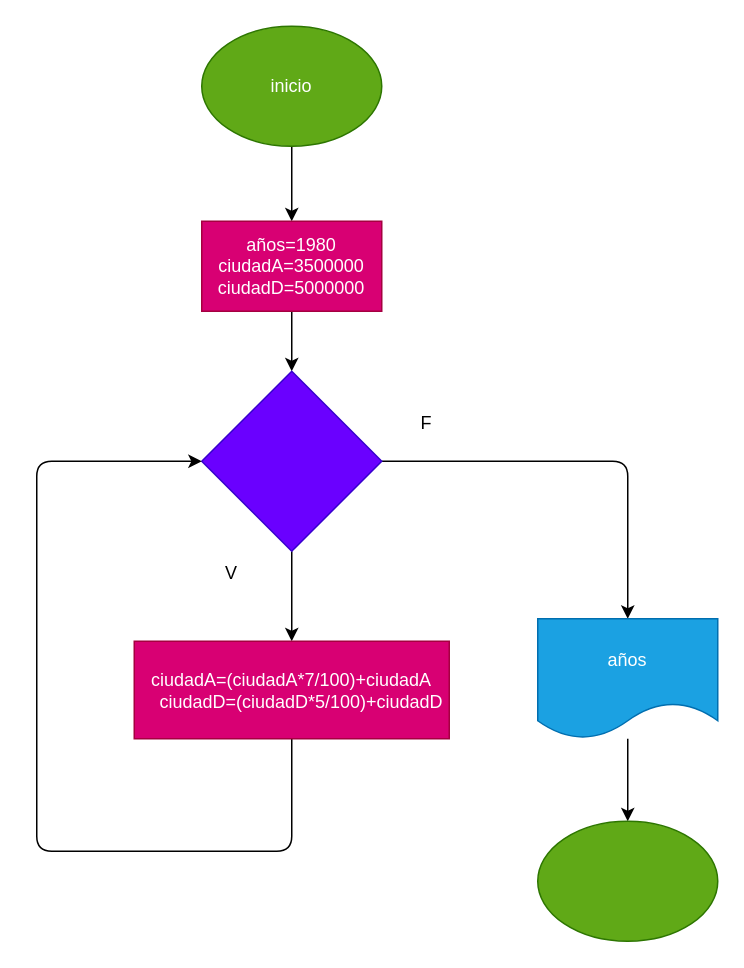
This 744x968 diagram has some shape labels left out. The shapes that lost their labels are listed below. From the top down, each one's centre as x and y in pixels, then its label:
At (291,460): "ciudadA < ciudadD:".
At (627,880): "fin".
